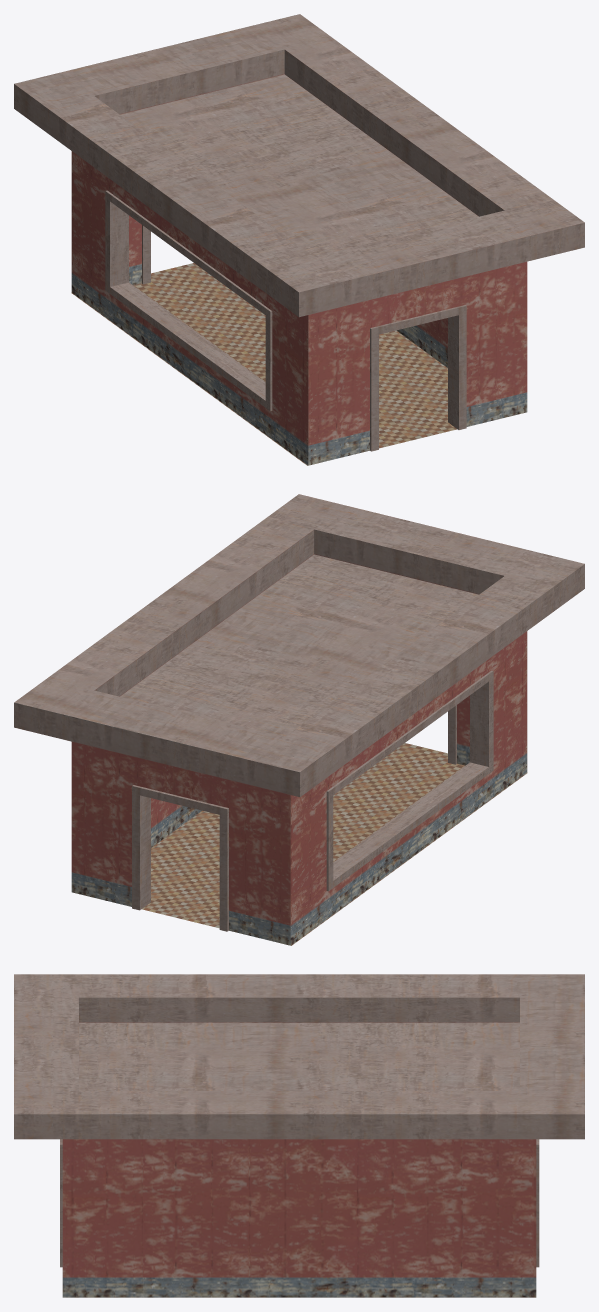
3 renders of one model, top to bottom at view 1: azimuth 30°, elevation 25°; view 2: azimuth 150°, elevation 25°; view 3: azimuth 270°, elevation 25°, orthographic.
Visible parts, largest first — view 1: Warehouse, Floor, Base; view 2: Warehouse, Floor, Base; view 3: Warehouse, Base.
Boxes of the visible parts, left/top/right/bottom form: Warehouse: left=14, top=14, right=584, bottom=465; Floor: left=71, top=263, right=456, bottom=465; Base: left=105, top=190, right=466, bottom=451; Warehouse: left=14, top=494, right=584, bottom=945; Floor: left=142, top=743, right=527, bottom=945; Base: left=132, top=670, right=493, bottom=931; Warehouse: left=14, top=974, right=584, bottom=1297; Base: left=60, top=1139, right=539, bottom=1267.
Size of the model in its own units: 601 by 400 by 1037.
5 materials, 5 textured.
